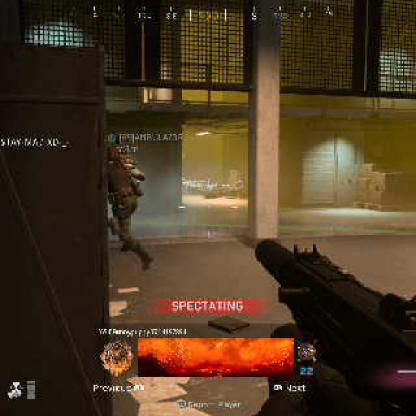enemy: (106, 147, 154, 273)
